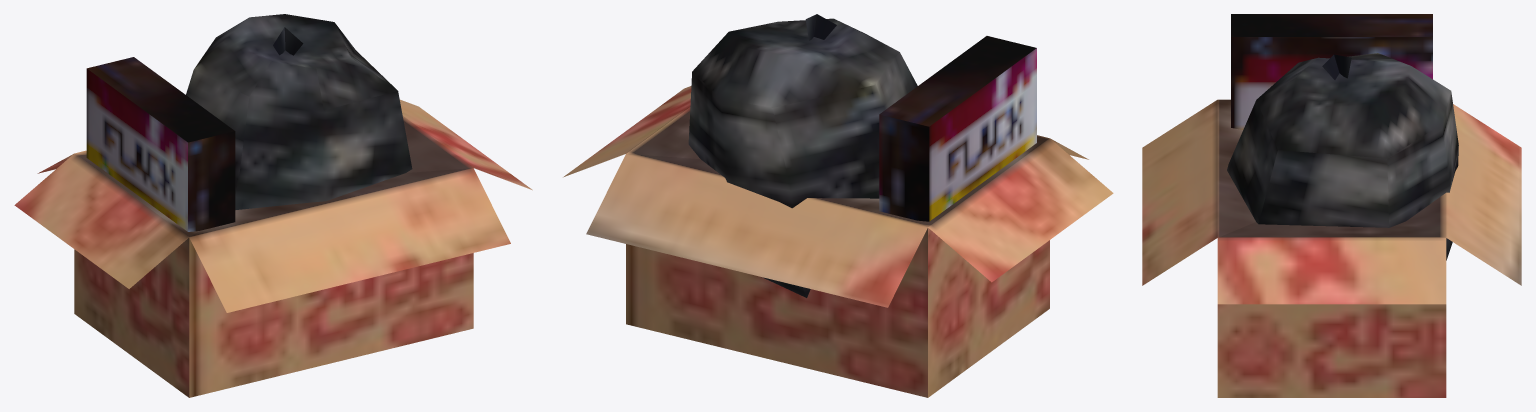
The model's file is gas_trash.fbx.
3 renders of one model, left to right at view 1: azimuth 30°, elevation 25°; view 2: azimuth 150°, elevation 25°; view 3: azimuth 270°, elevation 25°, orthographic. The views are drawn at different scales.
Parts seen in each view (by area): view 1: gas_trash; view 2: gas_trash; view 3: gas_trash.
Part boxes in pixels (x1=…): gas_trash: x1=14, y1=14, x2=532, y2=397; gas_trash: x1=563, y1=14, x2=1113, y2=397; gas_trash: x1=1142, y1=14, x2=1521, y2=397.
Size of the model in its own units: 0.951 by 0.6338 by 0.7743.
1 material, 1 textured.
